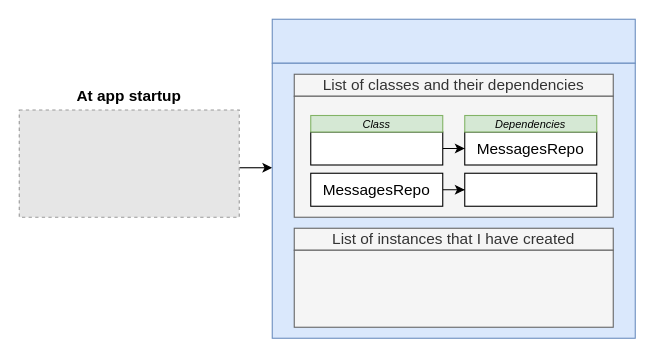
Some shapes in this 655 by 358 pixel diagram are drawn without their labels. Grey dashed boxes stand in for pictures. Each missing label, with the centre of its shape:
MessagesService: (376,148)
Nest DI Container: (453,40)
